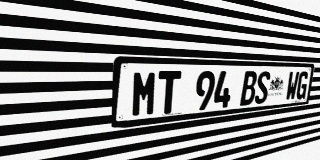4: (213, 71, 233, 109)
9: (194, 71, 216, 111)
B: (240, 71, 258, 106)
G: (295, 71, 309, 100)
M: (131, 71, 158, 118)
S: (254, 71, 271, 104)
T: (156, 71, 181, 115)
W: (285, 71, 299, 101)
